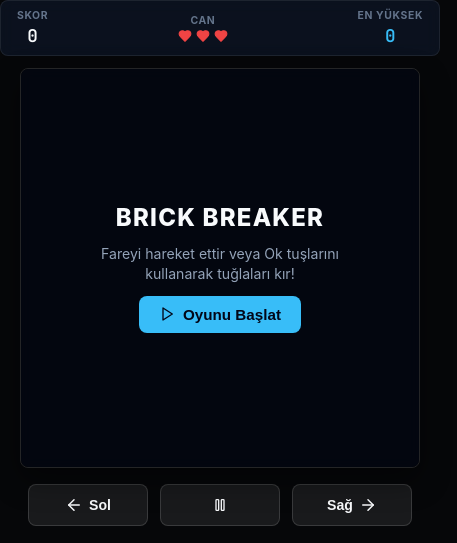
BreakoutGame › starts game and transitions to active play state
The width and height of the screenshot is (457, 543).
What coordinates should you click on to do the following:
click the button with test id "breakout-start-btn"
I would click on:
 (220, 314)
Its box is [139, 296, 301, 333].
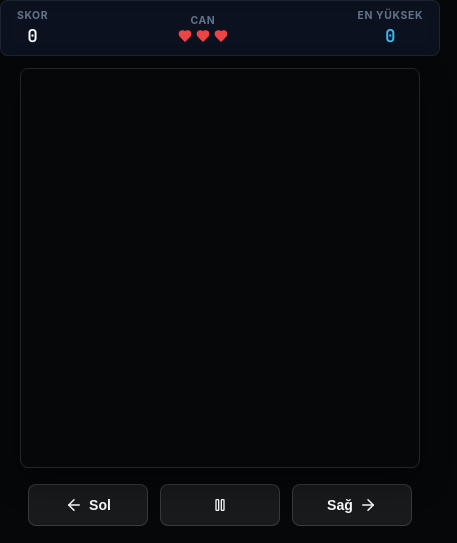
Result: the button with test id "breakout-start-btn" is gone
